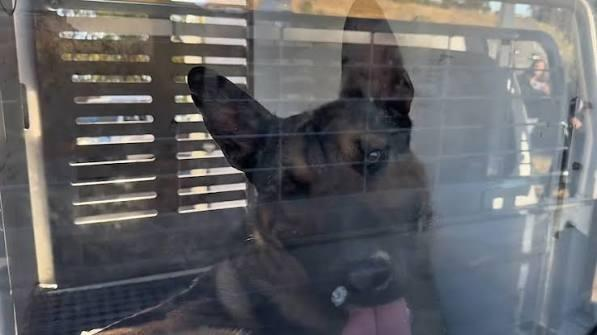adult_dog: (126, 1, 443, 335)
